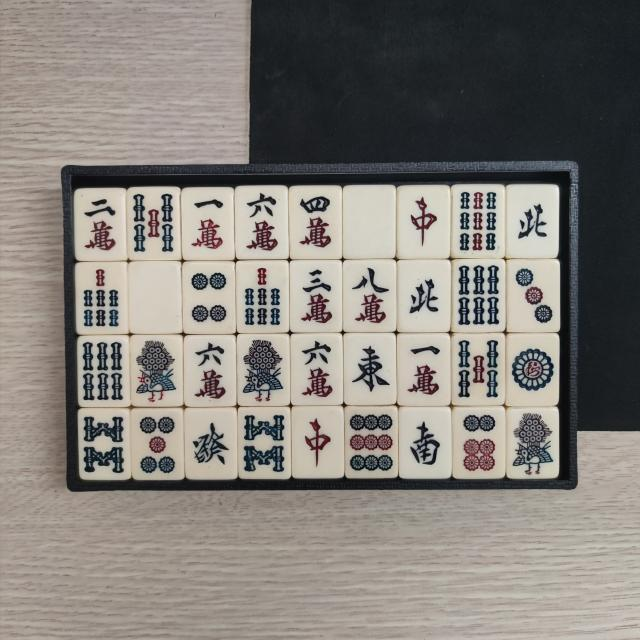hdg: (189, 414, 233, 474)
hdr: (402, 190, 446, 253), (297, 412, 340, 473)
hdw: (134, 266, 178, 331), (348, 190, 392, 252)
hwe: (349, 336, 393, 399)
hwn: (510, 189, 552, 252), (404, 264, 444, 328)
hws: (404, 408, 446, 474)
sb1: (133, 338, 180, 404), (240, 337, 286, 404), (510, 412, 556, 477)
sb5: (130, 188, 178, 258), (456, 336, 500, 402)
sb6: (456, 260, 502, 330), (80, 338, 126, 404)
sb7: (240, 264, 284, 328), (80, 266, 122, 330)
sb8: (81, 411, 128, 475), (241, 411, 286, 475)
sb9: (457, 188, 500, 253)
sc1: (401, 336, 444, 400), (188, 191, 230, 256)
sc2: (78, 191, 122, 258)
sc3: (295, 265, 338, 329)
sc4: (293, 192, 337, 256)
sc6: (294, 336, 338, 403), (240, 188, 283, 256), (188, 338, 232, 404)
sc8: (348, 264, 392, 328)
sd1: (510, 338, 556, 402)
sd3: (510, 262, 554, 329)
sd4: (187, 268, 230, 329)
sd5: (134, 413, 182, 476)
sd6: (459, 412, 502, 474)
sd9: (348, 410, 396, 474)
